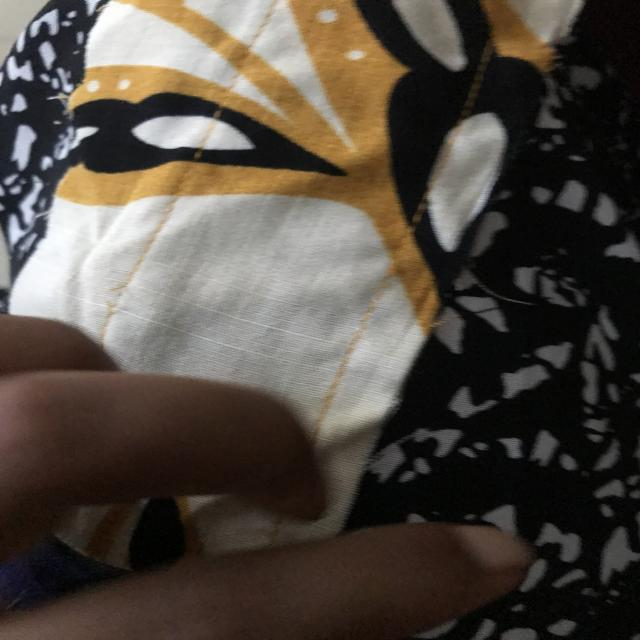broken: (94, 272, 140, 320)
